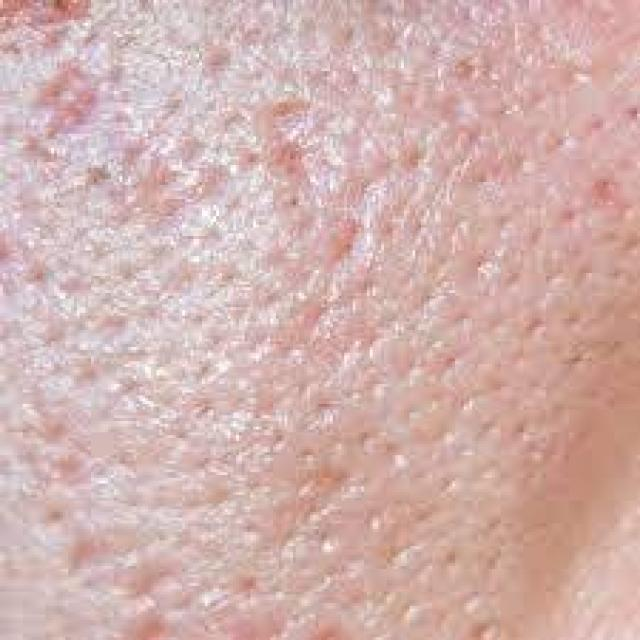Englarged-Pores: (88, 82, 451, 586)
